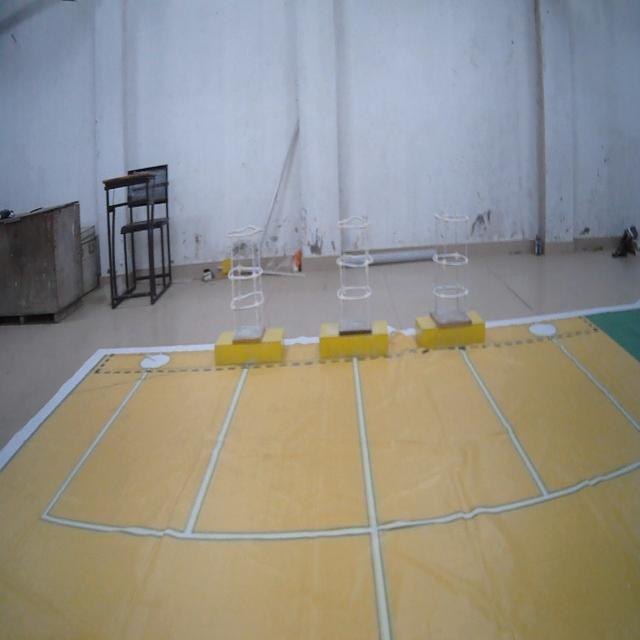silo: (428, 211, 475, 332), (335, 212, 375, 334), (226, 228, 267, 345)
